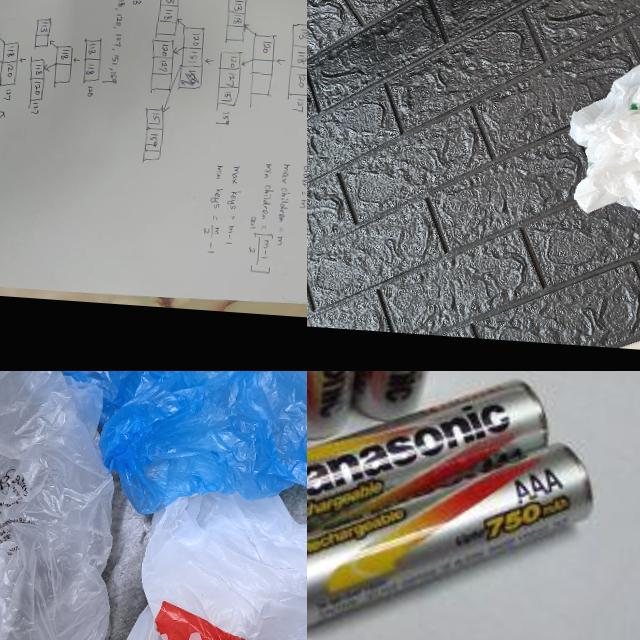bateria: (307, 418, 601, 640), (307, 371, 553, 584)
papel: (0, 0, 307, 307)
sacola plástica: (57, 463, 307, 640), (32, 371, 307, 531), (0, 371, 154, 640), (563, 48, 640, 223)
